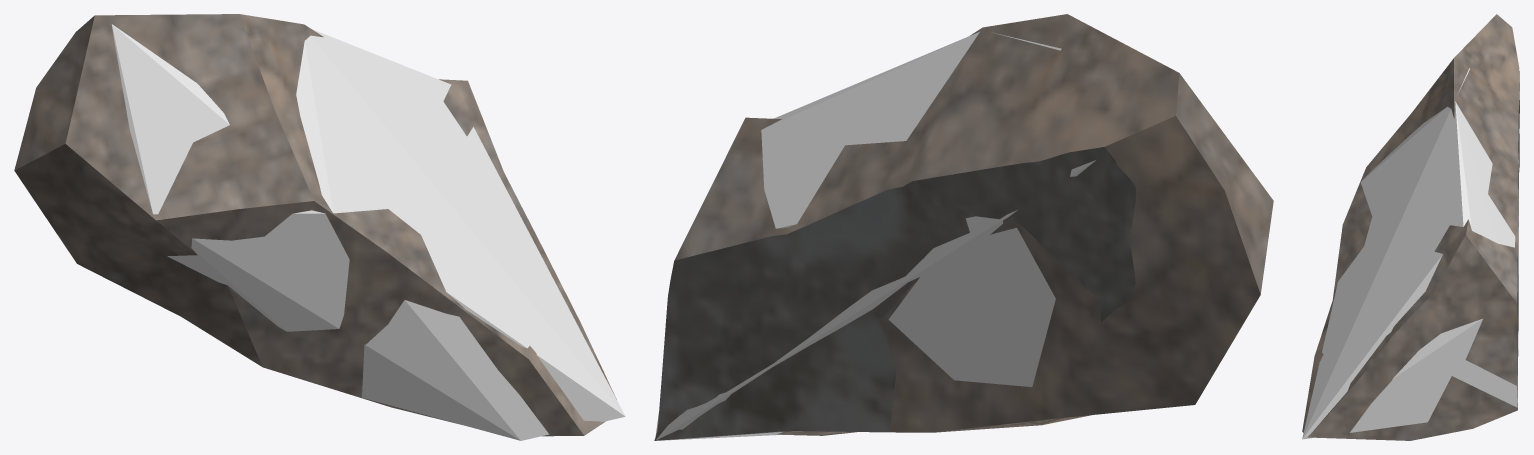
Rendered from SM_Rock_07.fbx.
3 views of the same model, side by side, from view 1: azimuth 30°, elevation 25°; view 2: azimuth 150°, elevation 25°; view 3: azimuth 270°, elevation 25° (orthographic). The views are drawn at different scales.
Visible parts, largest first — view 1: SM_Rock_07_LOD0, SM_Rock_07_ConvexHulls; view 2: SM_Rock_07_LOD0, SM_Rock_07_ConvexHulls; view 3: SM_Rock_07_LOD0, SM_Rock_07_ConvexHulls.
Boxes of the visible parts, x1=… form: SM_Rock_07_LOD0: x1=14, y1=14, x2=616, y2=436; SM_Rock_07_ConvexHulls: x1=111, y1=24, x2=625, y2=440; SM_Rock_07_LOD0: x1=654, y1=14, x2=1273, y2=440; SM_Rock_07_ConvexHulls: x1=655, y1=32, x2=1095, y2=440; SM_Rock_07_LOD0: x1=1302, y1=14, x2=1519, y2=440; SM_Rock_07_ConvexHulls: x1=1302, y1=68, x2=1519, y2=439.
Size of the model in its own units: 46.86 by 26.2 by 40.36.
